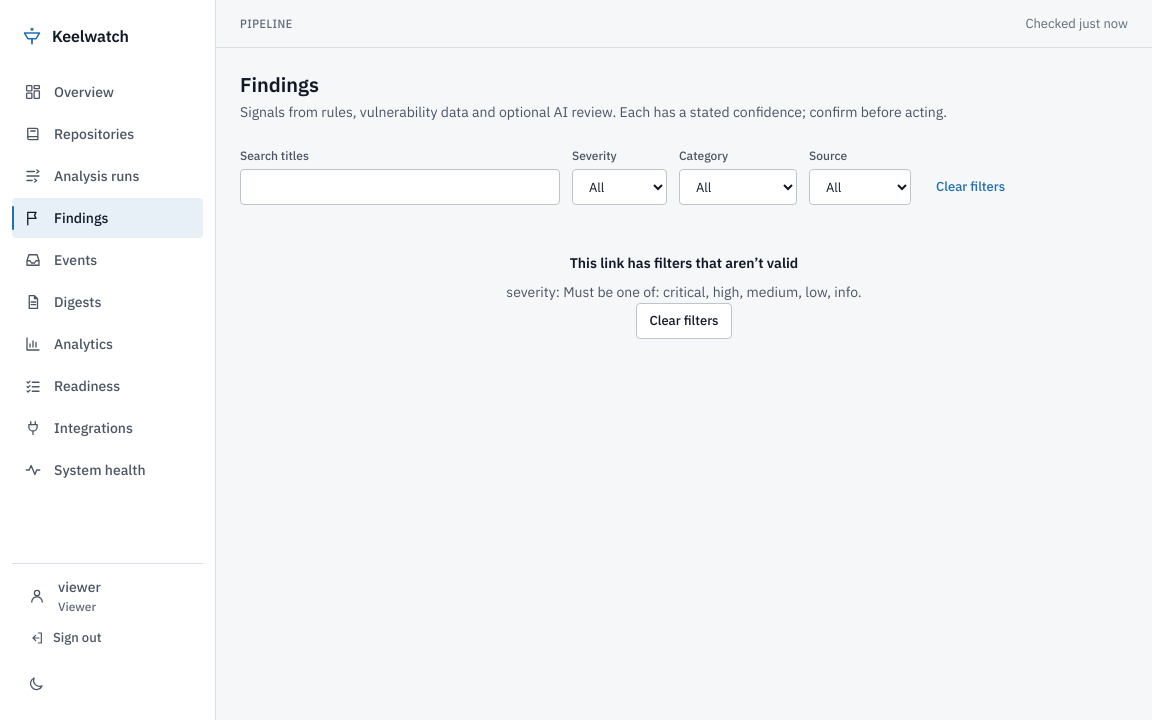
Test case: invalid filters in a link › names the bad filter and offers to clear it instead of a retry that cannot work
Expected: the message shows "This link has filters that aren’t valid", [570, 254, 798, 272]
Expected: the message shows "severity: Must be one of", [506, 254, 862, 339]
Click the button "Clear filters" below "This link has filters that aren’t valid" at (684, 321), box [636, 303, 732, 339]
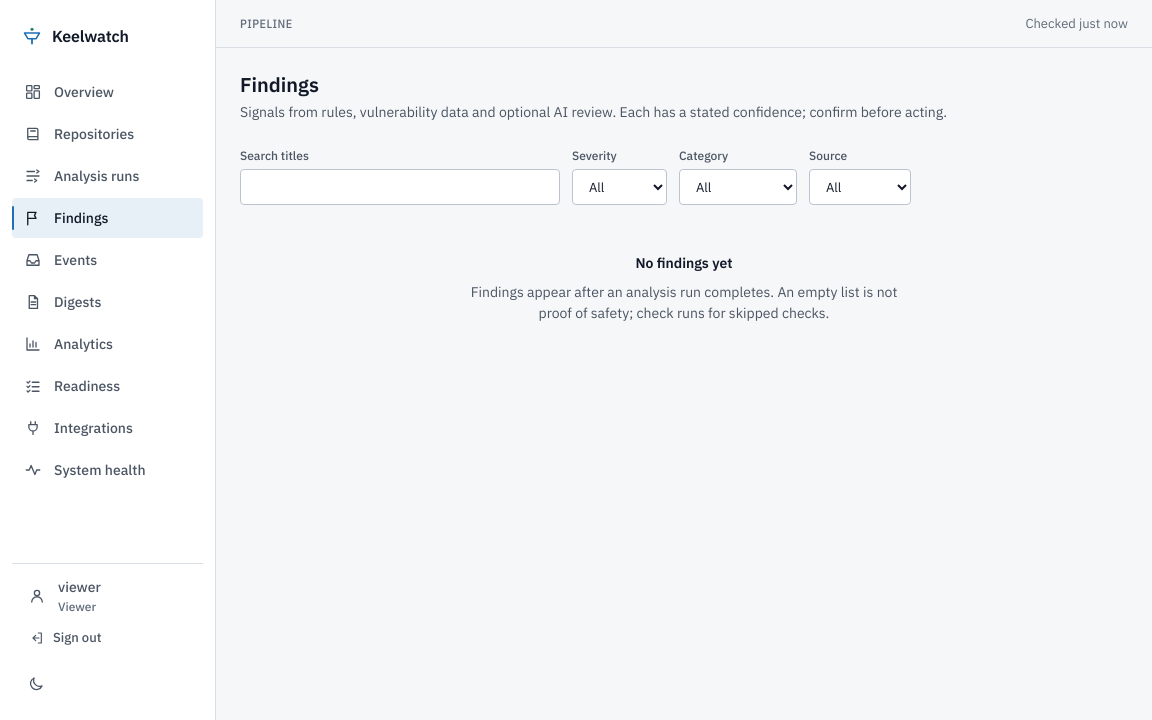
Now the text "No findings yet" is shown, box [636, 254, 732, 272]
